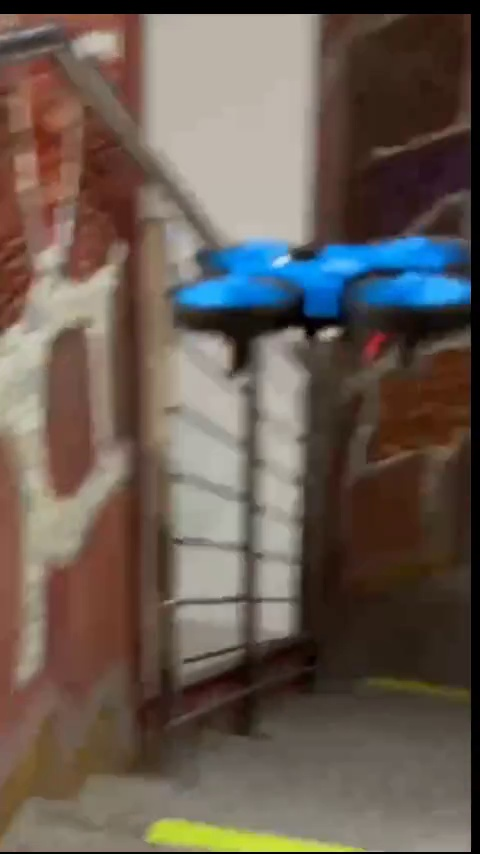drone: (171, 243, 471, 374)
